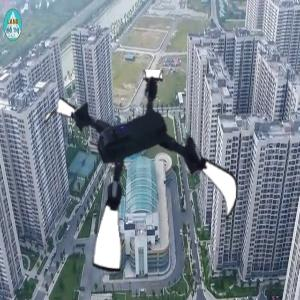drone: (38, 71, 243, 276)
